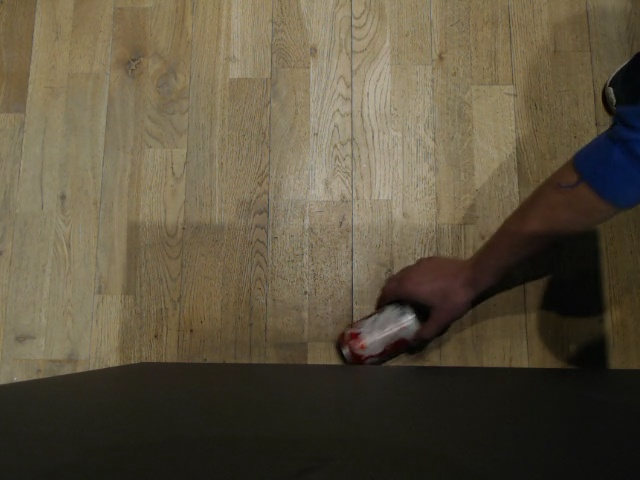cola: (336, 302, 426, 365)
